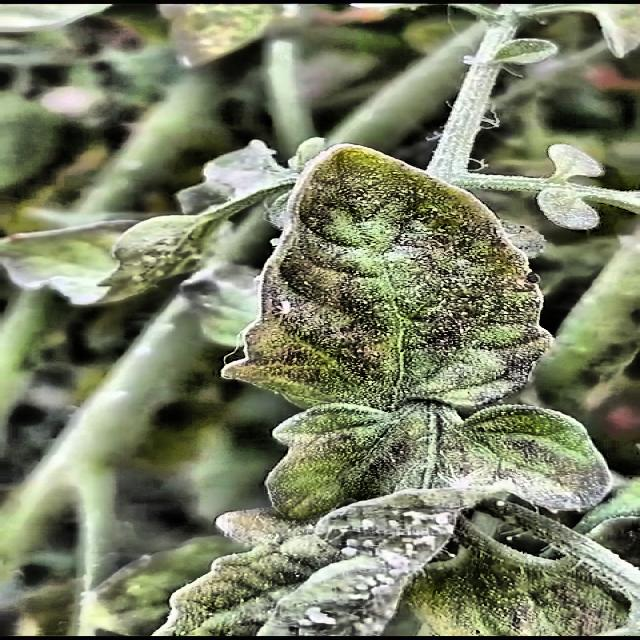nymph: (379, 549, 411, 570), (371, 583, 395, 598), (414, 535, 436, 550), (405, 511, 428, 522), (352, 592, 371, 602), (340, 547, 358, 557), (434, 513, 450, 524), (361, 518, 376, 528), (361, 540, 376, 548), (444, 551, 457, 560), (388, 520, 401, 528)
whitefly: (464, 56, 488, 64), (275, 300, 288, 314)
